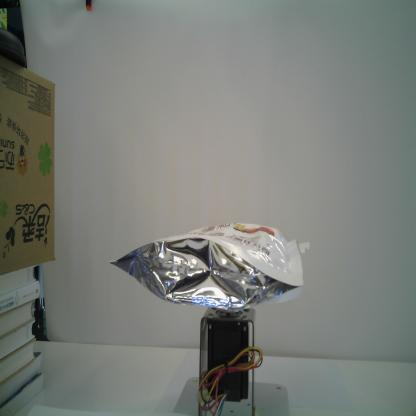Dried Food: (106, 218, 312, 317)
